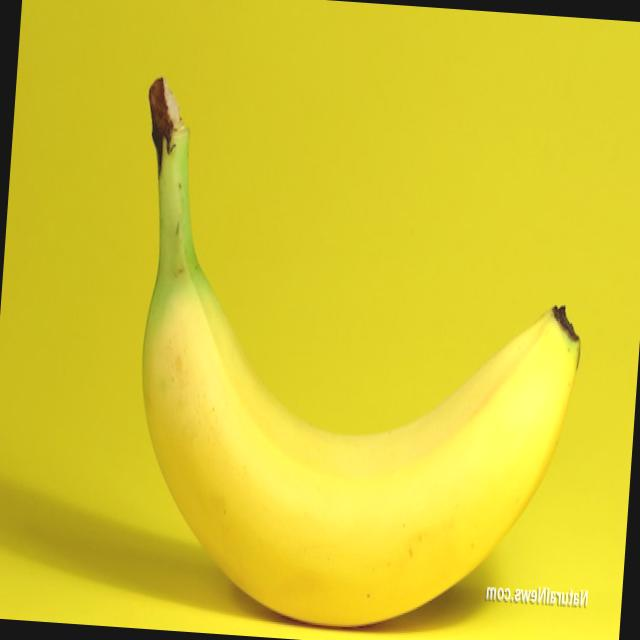banana: (85, 261, 589, 640)
